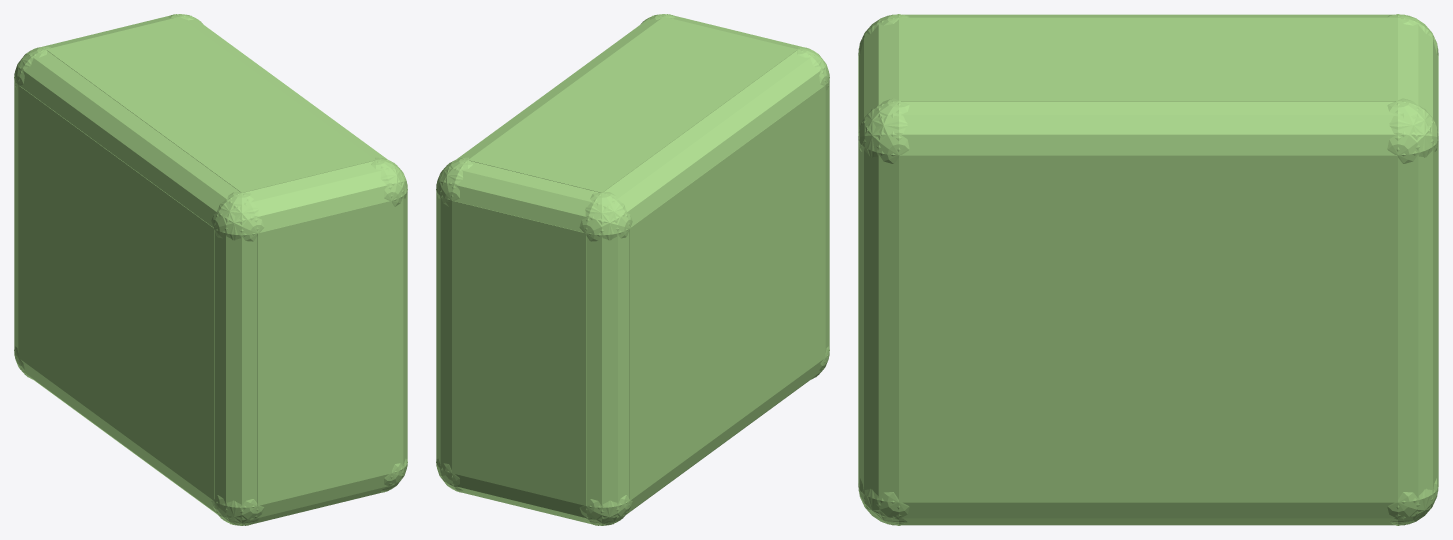
The model's file is torso.glb.
3 views of the same model, side by side, from view 1: azimuth 30°, elevation 25°; view 2: azimuth 150°, elevation 25°; view 3: azimuth 270°, elevation 25° (orthographic). The views are drawn at different scales.
Parts seen in each view (by area): view 1: torso_x_visual, torso_z_visual, torso_y_visual, torso_edge5_visual, torso_edge9_visual, torso_edge3_visual, torso_edge7_visual, torso_edge8_visual, torso_edge1_visual, torso_edge11_visual, torso_edge4_visual, torso_edge2_visual; view 2: torso_x_visual, torso_z_visual, torso_y_visual, torso_edge4_visual, torso_edge9_visual, torso_edge2_visual, torso_edge6_visual, torso_edge8_visual, torso_edge0_visual, torso_edge11_visual, torso_edge5_visual, torso_edge3_visual; view 3: torso_x_visual, torso_y_visual, torso_edge11_visual, torso_edge6_visual, torso_edge7_visual, torso_edge10_visual, torso_edge2_visual, torso_edge3_visual, torso_edge9_visual, torso_edge0_visual, torso_edge1_visual, torso_z_visual.
Part boxes in pixels (bbox=[...]): torso_x_visual: bbox=[18, 85, 214, 500]; torso_z_visual: bbox=[257, 200, 391, 505]; torso_y_visual: bbox=[46, 17, 375, 192]; torso_edge5_visual: bbox=[214, 192, 258, 525]; torso_edge9_visual: bbox=[14, 47, 264, 241]; torso_edge3_visual: bbox=[211, 159, 407, 240]; torso_edge7_visual: bbox=[371, 157, 407, 492]; torso_edge8_visual: bbox=[14, 351, 264, 525]; torso_edge1_visual: bbox=[211, 459, 407, 525]; torso_edge11_visual: bbox=[172, 14, 407, 206]; torso_edge4_visual: bbox=[14, 46, 50, 379]; torso_edge2_visual: bbox=[14, 14, 203, 90]; torso_x_visual: bbox=[629, 85, 825, 500]; torso_z_visual: bbox=[452, 200, 586, 505]; torso_y_visual: bbox=[468, 17, 797, 192]; torso_edge4_visual: bbox=[585, 192, 629, 525]; torso_edge9_visual: bbox=[579, 47, 829, 241]; torso_edge2_visual: bbox=[436, 159, 632, 240]; torso_edge6_visual: bbox=[436, 157, 472, 492]; torso_edge8_visual: bbox=[579, 351, 829, 525]; torso_edge0_visual: bbox=[436, 459, 632, 525]; torso_edge11_visual: bbox=[436, 14, 671, 206]; torso_edge5_visual: bbox=[793, 46, 829, 379]; torso_edge3_visual: bbox=[640, 14, 829, 90]; torso_x_visual: bbox=[899, 155, 1397, 502]; torso_y_visual: bbox=[899, 17, 1397, 101]; torso_edge11_visual: bbox=[858, 101, 1438, 157]; torso_edge6_visual: bbox=[1387, 98, 1438, 525]; torso_edge7_visual: bbox=[858, 98, 909, 525]; torso_edge10_visual: bbox=[858, 478, 1438, 525]; torso_edge2_visual: bbox=[1387, 14, 1438, 163]; torso_edge3_visual: bbox=[858, 14, 909, 163]; torso_edge9_visual: bbox=[858, 14, 1438, 55]; torso_edge0_visual: bbox=[1387, 486, 1438, 525]; torso_edge1_visual: bbox=[858, 486, 909, 525]; torso_z_visual: bbox=[858, 56, 1438, 482].
Size of the model in its own units: 0.168 by 0.28 by 0.35.
